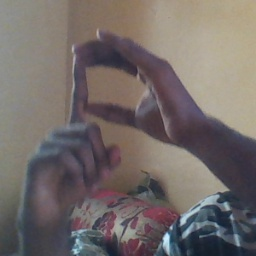P: (33, 25, 175, 192)
